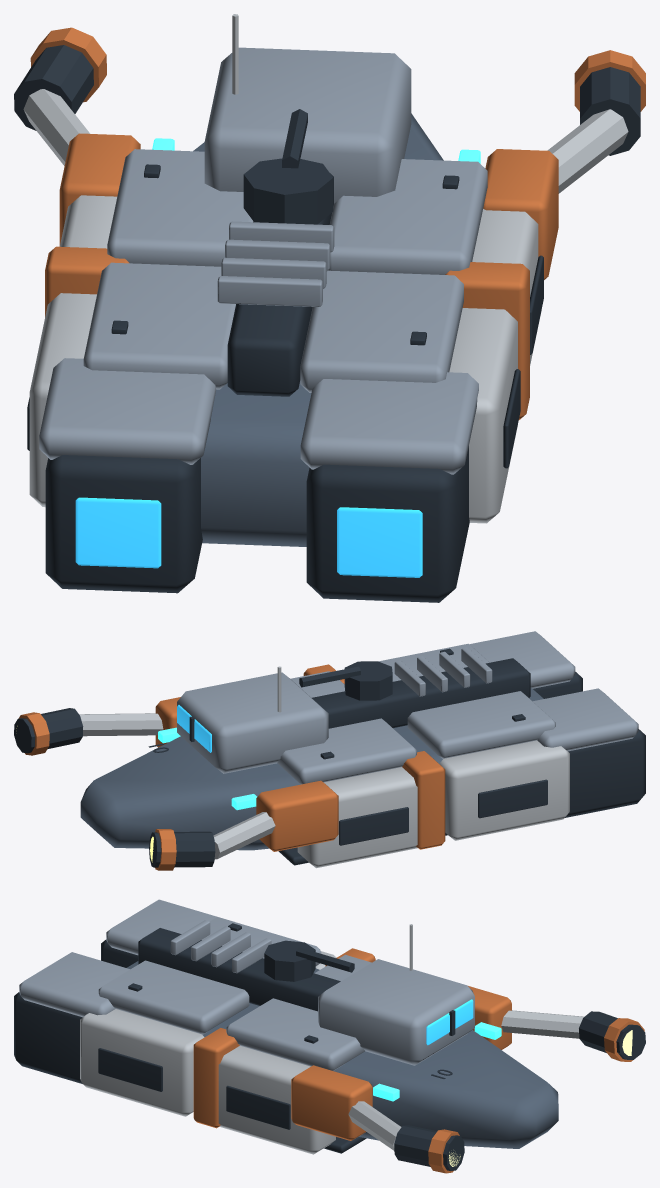
Rendered from mining_frigate.glb.
3 views of the same model, one above another, from view 1: azimuth 30°, elevation 25°; view 2: azimuth 150°, elevation 25°; view 3: azimuth 270°, elevation 25° (orthographic). The views are drawn at different scales.
Parts seen in each view (by area): view 1: Frigate | bridge, Frigate | keel, Frigate | dorsal armor.002, Frigate | engine housing.001, Frigate | engine armor cap.001, Frigate | engine housing, Frigate | engine armor cap, Frigate | dorsal armor, Frigate | dorsal armor.003, Frigate | dorsal armor.001, Frigate | shoulder armor.002, Frigate | compact spine (+23 smaller); view 2: Frigate | keel, Frigate | bridge, Frigate | shoulder armor, Frigate | dorsal armor, Frigate | shoulder armor.001, Frigate | compact spine, Frigate | dorsal armor.001, Frigate | engine housing, Mining rig | attachment hardpoint, Frigate | engine armor cap, Frigate | engine armor cap.001, Frigate | orange identification band (+19 smaller); view 3: Frigate | keel, Frigate | bridge, Frigate | shoulder armor.002, Frigate | dorsal armor.002, Frigate | shoulder armor.003, Frigate | dorsal armor.003, Frigate | compact spine, Frigate | engine housing.001, Mining rig | attachment hardpoint.001, Frigate | engine armor cap.001, Frigate | engine armor cap, Frigate | orange identification band.001 (+19 smaller).
Boxes of the visible parts, box(x1,y1,x2,y2) form: Frigate | bridge: box(204, 47, 411, 203); Frigate | keel: box(193, 113, 443, 546); Frigate | dorsal armor.002: box(300, 270, 463, 392); Frigate | engine housing.001: box(306, 446, 469, 602); Frigate | engine armor cap.001: box(300, 372, 478, 474); Frigate | engine housing: box(45, 455, 202, 593); Frigate | engine armor cap: box(39, 358, 216, 464); Frigate | dorsal armor: box(83, 262, 235, 389); Frigate | dorsal armor.003: box(326, 159, 487, 274); Frigate | dorsal armor.001: box(107, 149, 253, 266); Frigate | shoulder armor.002: box(449, 308, 517, 523); Frigate | compact spine: box(227, 173, 333, 396); Frigate | keel: box(80, 687, 543, 850); Frigate | bridge: box(177, 672, 328, 773); Frigate | shoulder armor: box(439, 740, 569, 840); Frigate | dorsal armor: box(407, 691, 555, 758); Frigate | shoulder armor.001: box(297, 767, 417, 868); Frigate | compact spine: box(312, 658, 530, 728); Frigate | dorsal armor.001: box(277, 718, 416, 784); Frigate | engine housing: box(565, 729, 645, 817); Mining rig | attachment hardpoint: box(256, 780, 338, 851); Frigate | engine armor cap: box(533, 688, 638, 751); Frigate | engine armor cap.001: box(469, 631, 575, 688); Frigate | orange identification band: box(402, 751, 445, 849); Frigate | keel: box(127, 961, 558, 1148); Frigate | bridge: box(318, 959, 474, 1065); Frigate | shoulder armor.002: box(80, 1009, 204, 1116); Frigate | dorsal armor.002: box(98, 960, 249, 1034); Frigate | shoulder armor.003: box(218, 1045, 335, 1154); Frigate | dorsal armor.003: box(226, 998, 364, 1070); Frigate | compact spine: box(138, 928, 340, 1011); Frigate | engine housing.001: box(14, 992, 82, 1083); Mining rig | attachment hardpoint.001: box(291, 1065, 372, 1140); Frigate | engine armor cap.001: box(19, 952, 129, 1017); Frigate | engine armor cap: box(106, 899, 217, 955); Frigate | orange identification band.001: box(193, 1028, 239, 1128).
Size of the model in its own units: 2.62 by 0.9325 by 2.92.
